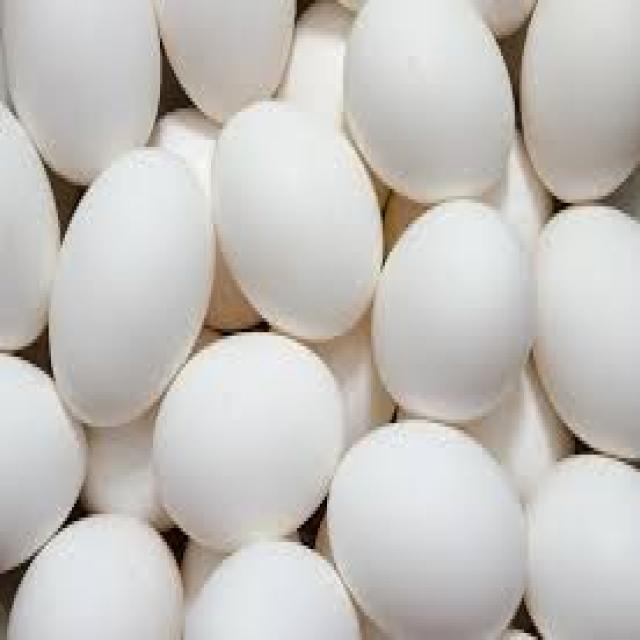White Egg: (54, 146, 223, 448), (316, 423, 528, 640), (202, 95, 383, 325), (153, 326, 342, 546), (368, 196, 536, 430), (344, 4, 524, 211), (0, 0, 164, 191), (0, 353, 90, 559)
